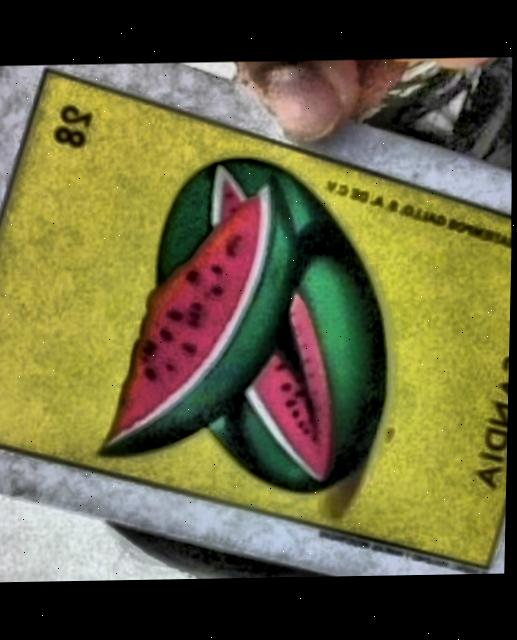La Sandia: (0, 81, 511, 569)
